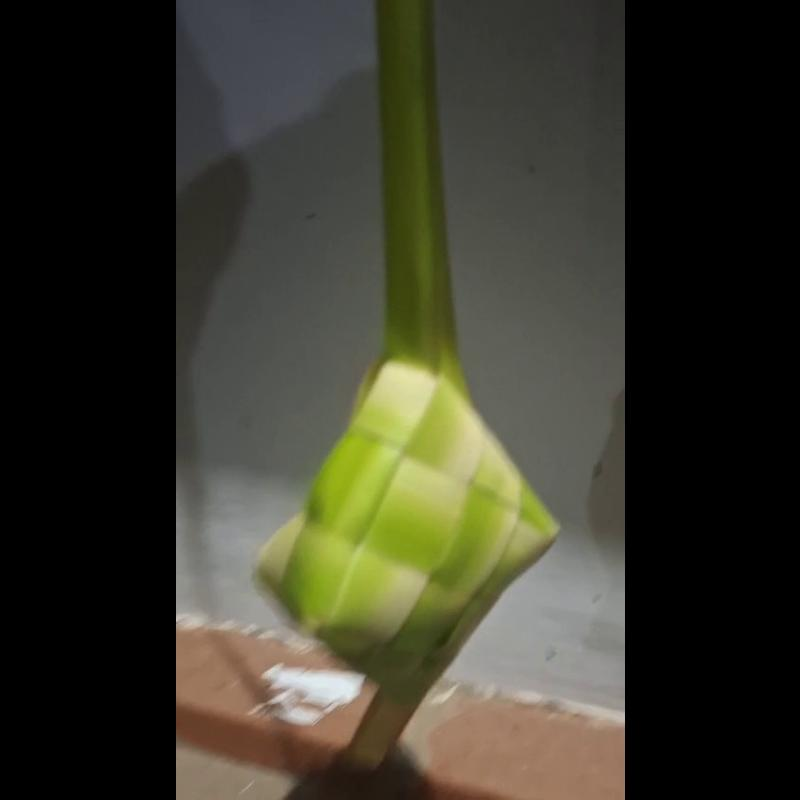Tipat Nasi: (243, 341, 569, 763)
